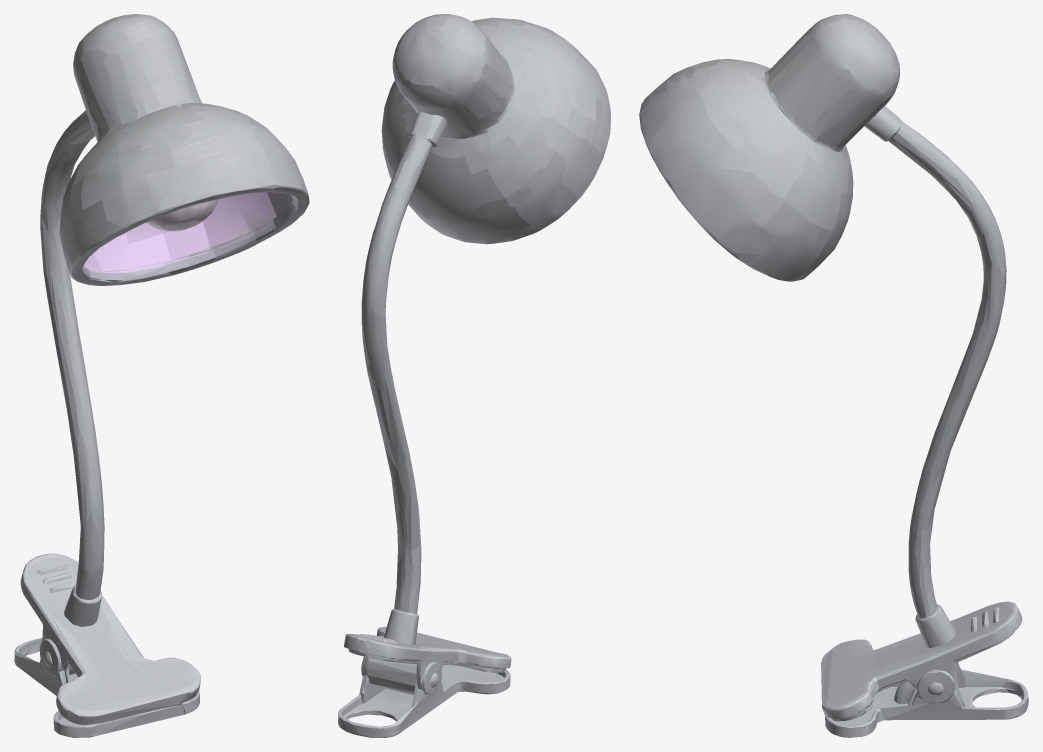
Rendered from raw_growlight_clip.glb.
3 renders of one model, left to right at view 1: azimuth 30°, elevation 25°; view 2: azimuth 150°, elevation 25°; view 3: azimuth 270°, elevation 25°, orthographic. The views are drawn at different scales.
Size of the model in its own units: 0.622 by 1.9 by 0.9791.
1 material, 1 textured.
